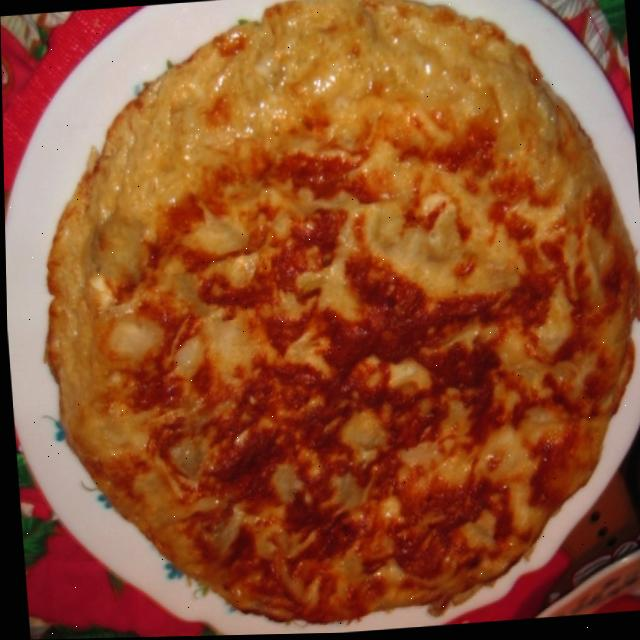面包点心: (6, 0, 640, 640)
